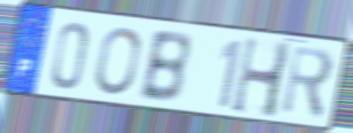0: (49, 20, 90, 92)
1: (217, 38, 244, 110)
B: (136, 30, 192, 105)
H: (228, 34, 295, 121)
O: (93, 25, 142, 97)
R: (279, 43, 336, 122)
